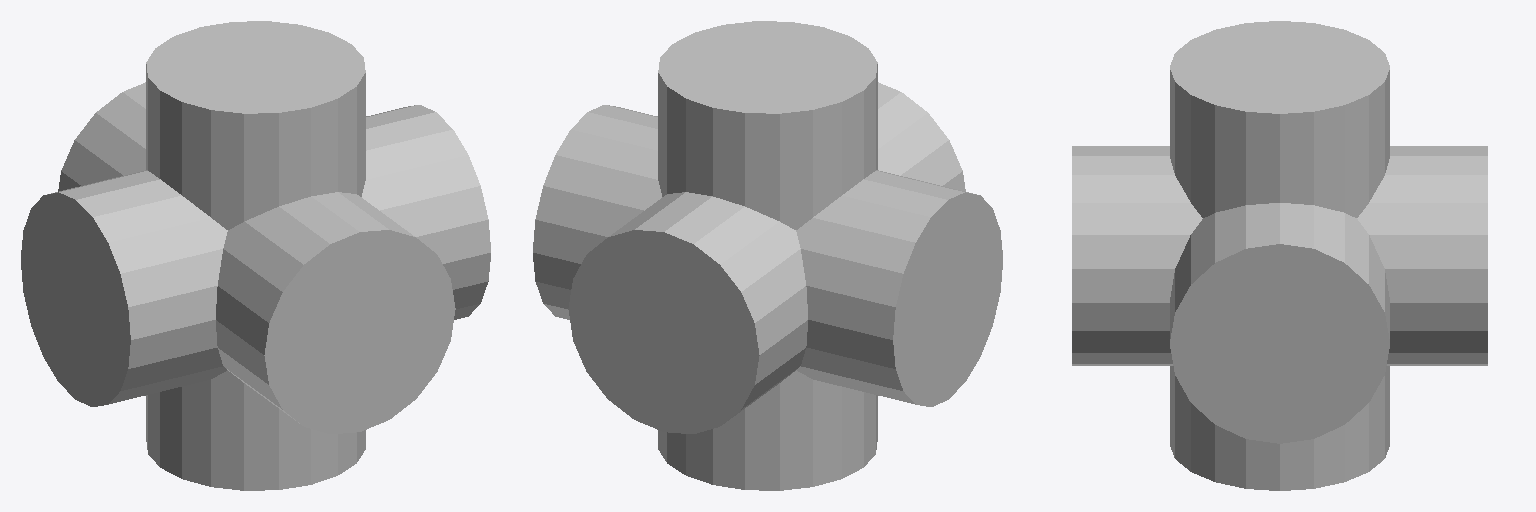
The model's file is joint.obj.
The picture shows the model from 3 angles: view 1: azimuth 30°, elevation 25°; view 2: azimuth 150°, elevation 25°; view 3: azimuth 270°, elevation 25°; orthographic projection.
Size of the model in its own units: 1.6 by 1.6 by 1.6.